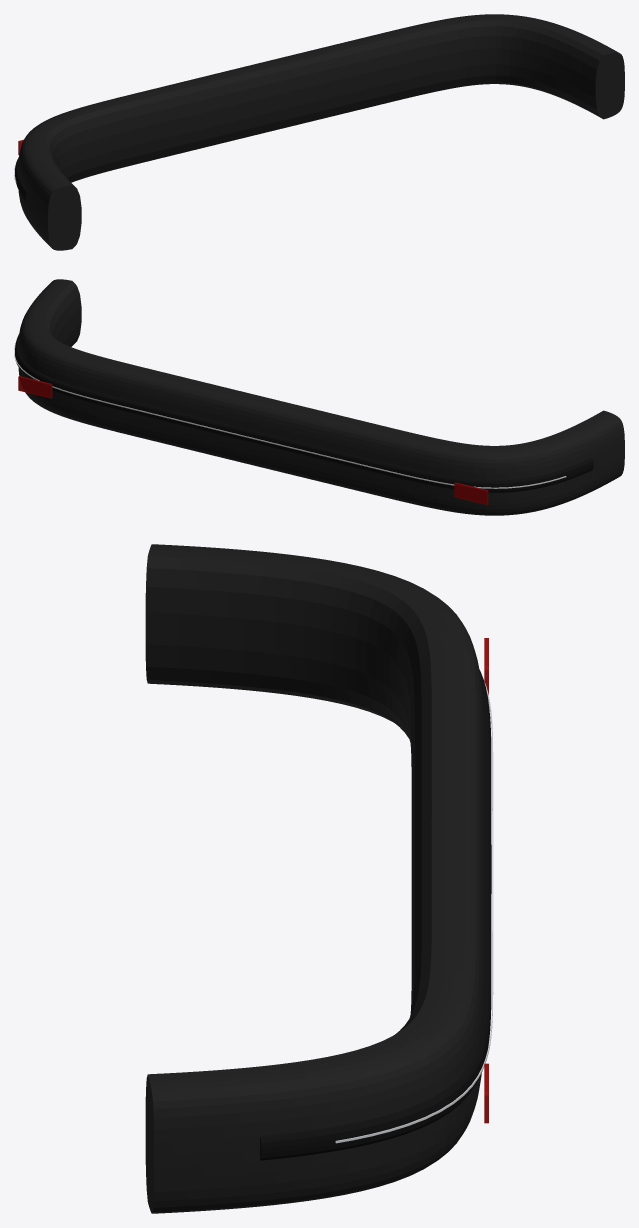
Rendered from para_choque_traseiro.glb.
3 views of the same model, one above another, from view 1: azimuth 30°, elevation 25°; view 2: azimuth 150°, elevation 25°; view 3: azimuth 270°, elevation 25° (orthographic). The views are drawn at different scales.
Parts seen in each view (by area): view 1: para_choque_traseiro_plastico_preto; view 2: para_choque_traseiro_plastico_preto, para_choque_traseiro_borracha, para_choque_traseiro_lente_lanterna, para_choque_traseiro_cromado; view 3: para_choque_traseiro_plastico_preto, para_choque_traseiro_borracha, para_choque_traseiro_cromado.
Part boxes in pixels (x1,y1,x2,y2): para_choque_traseiro_plastico_preto: (18,14,624,250); para_choque_traseiro_plastico_preto: (18,279,624,515); para_choque_traseiro_borracha: (15,334,593,492); para_choque_traseiro_lente_lanterna: (18,376,488,504); para_choque_traseiro_cromado: (14,342,566,488); para_choque_traseiro_plastico_preto: (145,544,484,1213); para_choque_traseiro_borracha: (260,669,491,1160); para_choque_traseiro_cromado: (335,680,493,1143).
Size of the model in its own units: 1.75 by 0.185 by 0.456.
